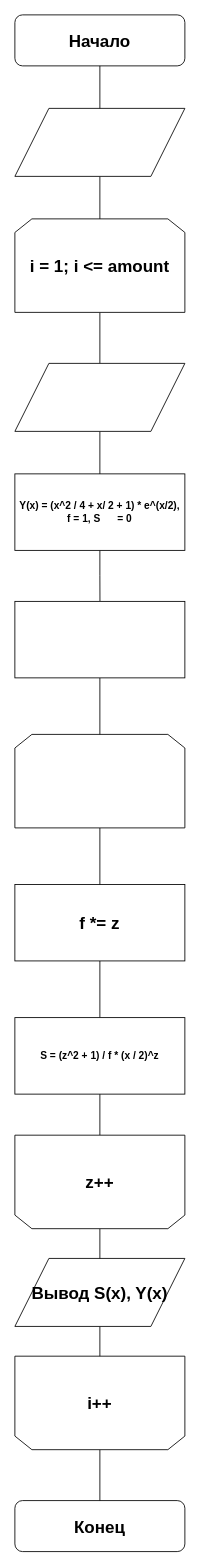
Image size: 200x1567. Some labels were removed from this diagram. Each missing label, with the centre of its shape:
"f = 1; S = 0" belongs at point 99,639.
"z = 1; z <= n" belongs at point 99,781.
"Ввод n, amount" belongs at point 99,142.
"Ввод x" belongs at point 99,397.
